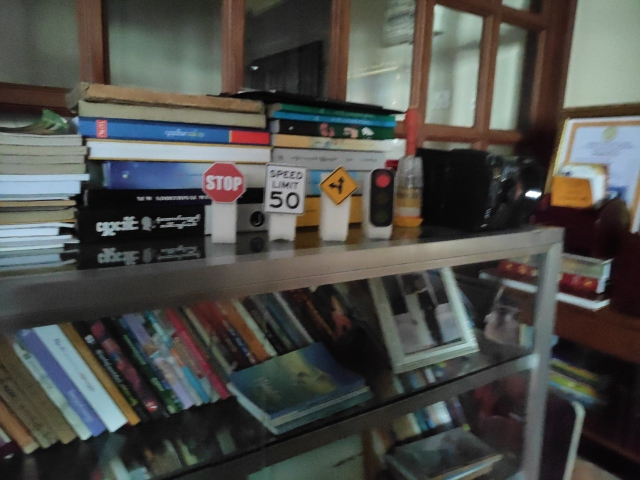Red Traffic Light: (369, 168, 396, 228)
Speed Limit 50: (261, 163, 308, 214)
Stop Sign: (203, 161, 246, 204)
Straight Or Left Sign: (320, 165, 358, 204)
